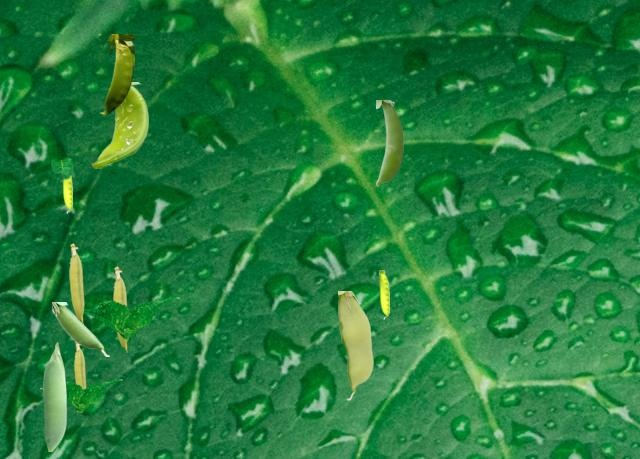pea: (91, 82, 147, 167), (338, 291, 372, 399), (52, 302, 108, 355), (99, 34, 133, 114), (43, 342, 65, 450), (376, 100, 402, 185), (113, 266, 127, 351), (69, 243, 83, 323), (74, 342, 85, 387), (379, 270, 388, 318), (62, 176, 71, 212)
